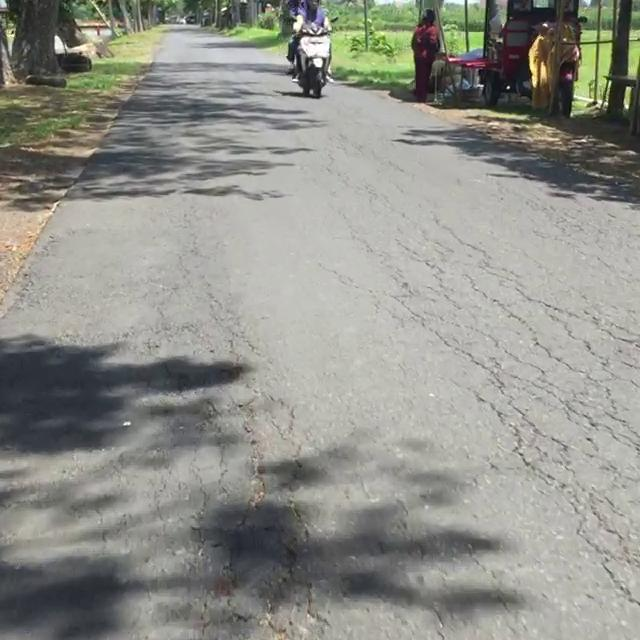retak_kulit_buaya: (392, 218, 640, 602), (141, 248, 328, 640)
